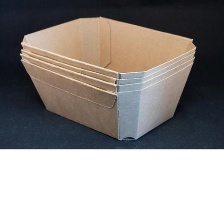book: (15, 10, 201, 145)
